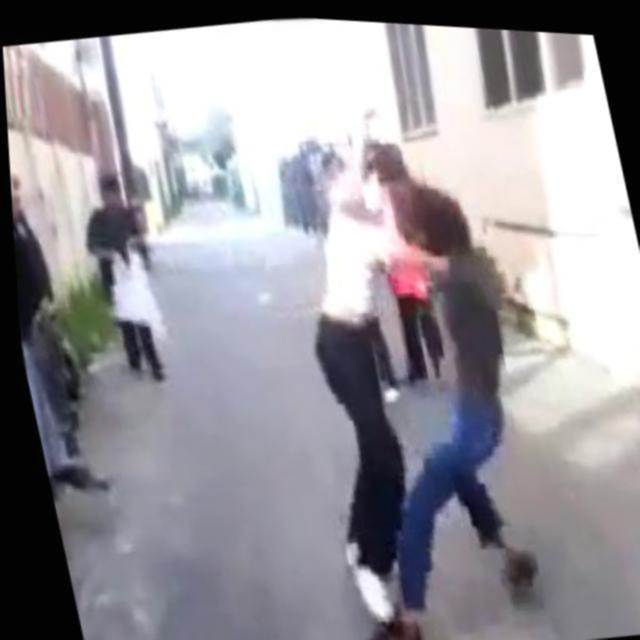fight: (251, 114, 568, 640)
